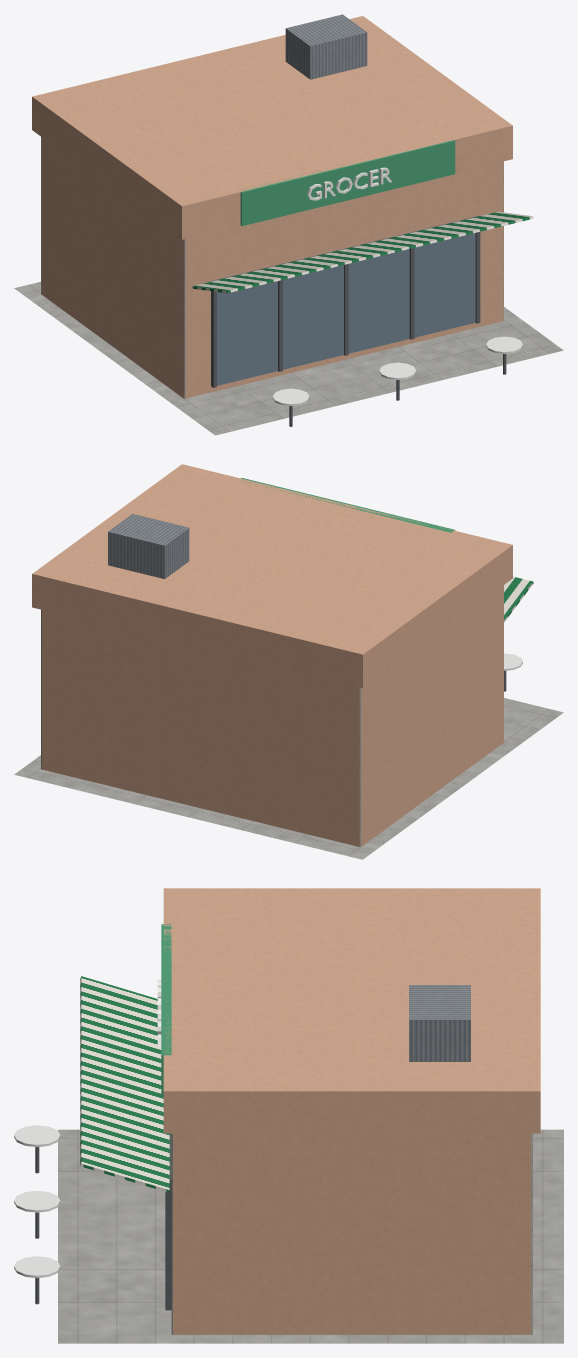
The model's file is shop_3.gltf.
The picture shows the model from 3 angles, top to bottom: view 1: azimuth 30°, elevation 25°; view 2: azimuth 150°, elevation 25°; view 3: azimuth 270°, elevation 25°; orthographic projection. The views are drawn at different scales.
Visible parts, largest first — view 1: shop_3; view 2: shop_3; view 3: shop_3.
Part boxes in pixels (<box>): shop_3: <box>14,14,563,435</box>; shop_3: <box>14,464,563,859</box>; shop_3: <box>14,888,563,1343</box>.
Size of the model in its own units: 1.96 by 1.24 by 2.13.
9 materials, 4 textured.
